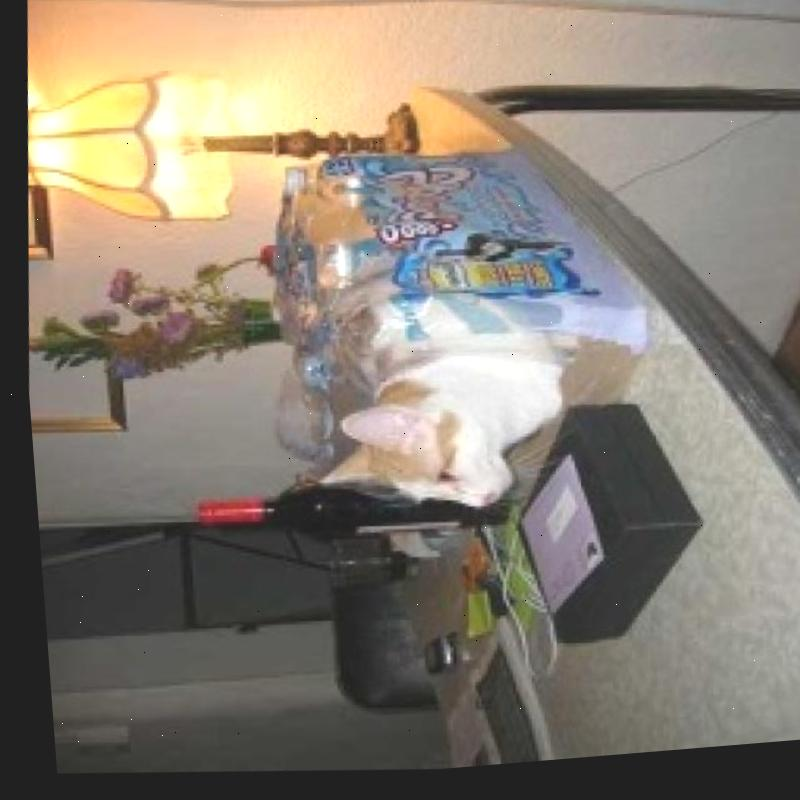botella: (276, 157, 330, 204)
